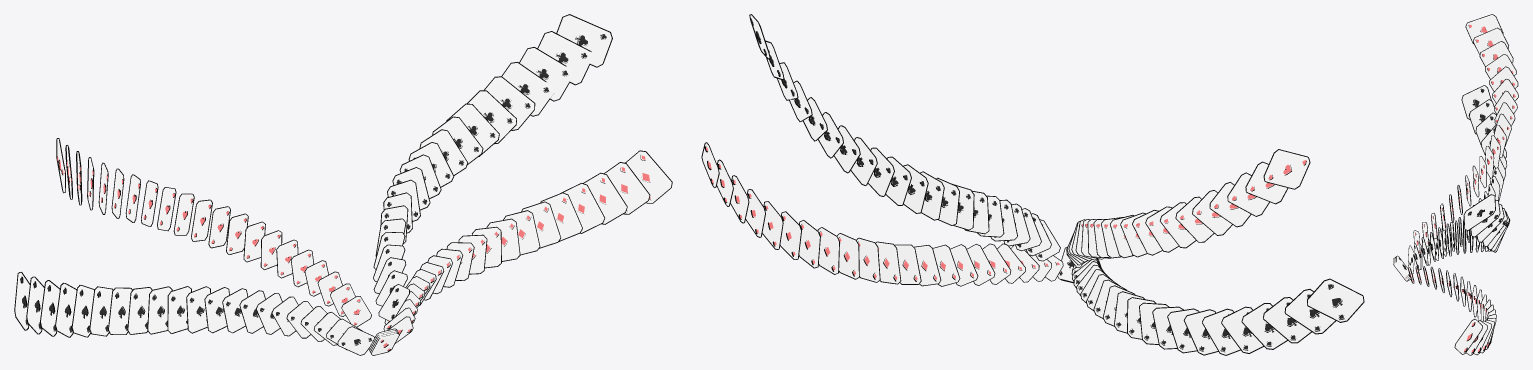
The model's file is BACK.MATHS.CASINO.glb.
The picture shows the model from 3 angles, left to right: view 1: azimuth 30°, elevation 25°; view 2: azimuth 150°, elevation 25°; view 3: azimuth 270°, elevation 25°; orthographic projection. The views are drawn at different scales.
Visible parts, largest first — view 1: BACK.MATHS.CASINO; view 2: BACK.MATHS.CASINO; view 3: BACK.MATHS.CASINO.
Part boxes in pixels (x1,y1,x2,y2): BACK.MATHS.CASINO: [14, 14, 672, 355]; BACK.MATHS.CASINO: [701, 14, 1364, 355]; BACK.MATHS.CASINO: [1393, 14, 1518, 355].
Bounding box in the file's own units: 5.08 × 1.77 × 1.17.
